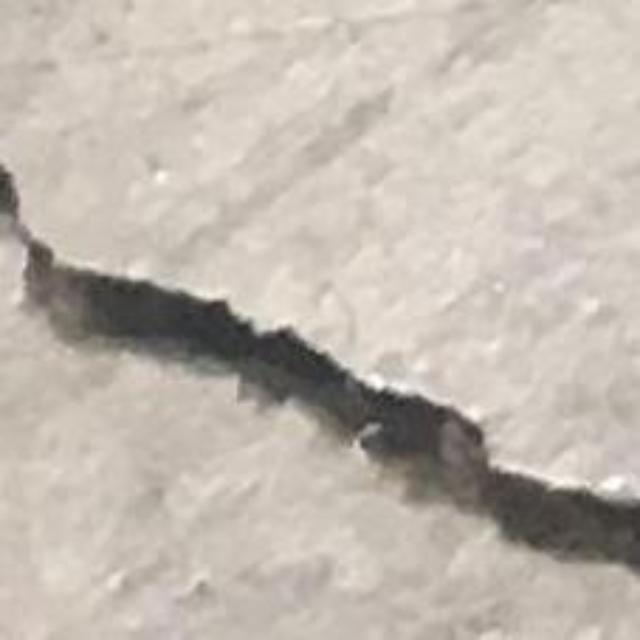crack: (0, 164, 639, 575)
